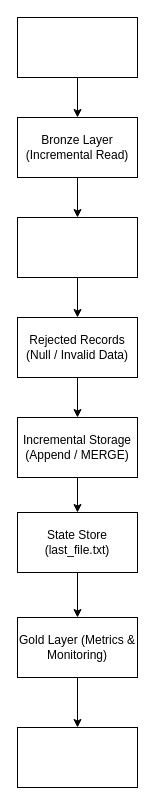
This 155x805 diagram has some shape labels left out. The shapes that lost their labels are listed below. From the top down, each one's centre as x and y in pixels, then its label:
At point (77, 47): "Azure Blob Storage (Raw CSV Files)".
At point (77, 247): "Silver Layer (Data Quality Validation)".
At point (77, 757): "Analytics / Reporting".
